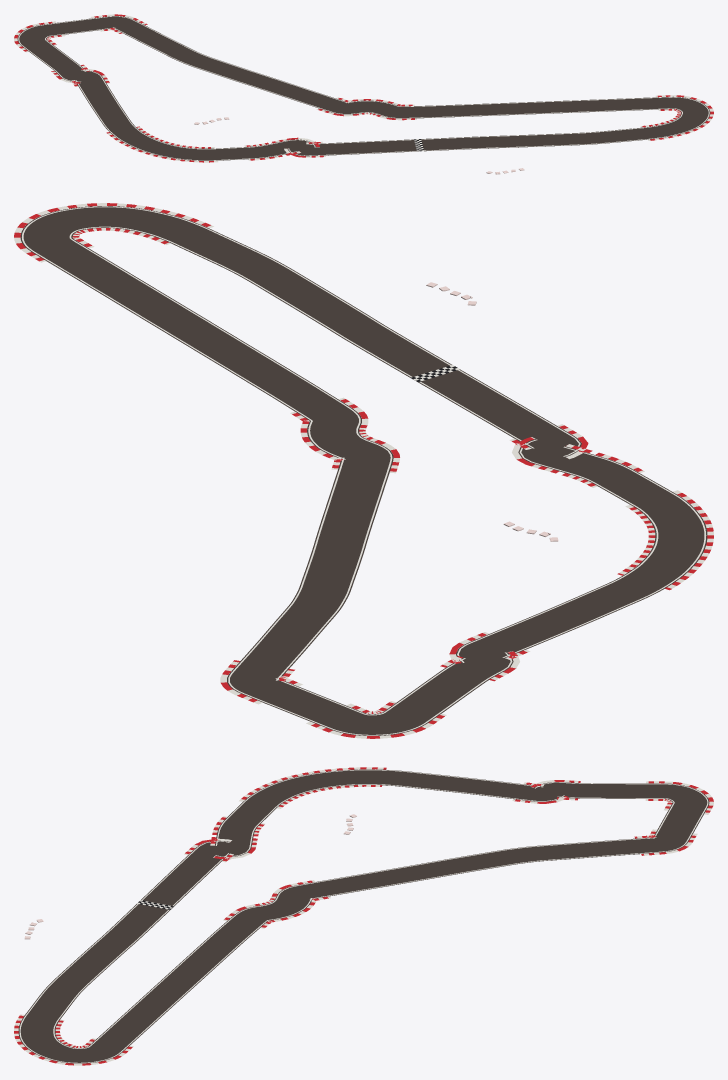
Rendered from scenery-compressed.glb.
3 renders of one model, top to bottom at view 1: azimuth 30°, elevation 25°; view 2: azimuth 150°, elevation 25°; view 3: azimuth 270°, elevation 25°, orthographic. The views are drawn at different scales.
Visible parts, largest first — view 1: refRoad, monzaLines, monzaKerbsWhite, monzaKerbsRed; view 2: refRoad, monzaLines, monzaKerbsWhite, monzaKerbsRed; view 3: refRoad, monzaLines, monzaKerbsRed, monzaKerbsWhite.
Boxes of the visible parts, x1,y1,x2,y2 form: refRoad: (17, 16, 710, 160); monzaLines: (18, 16, 709, 160); monzaKerbsWhite: (14, 14, 713, 162); monzaKerbsRed: (14, 14, 713, 162); refRoad: (20, 206, 707, 735); monzaLines: (22, 206, 706, 735); monzaKerbsWhite: (14, 203, 713, 738); monzaKerbsRed: (14, 203, 713, 738); refRoad: (18, 769, 709, 1063); monzaLines: (19, 769, 708, 1063); monzaKerbsRed: (14, 767, 713, 1065); monzaKerbsWhite: (14, 767, 713, 1065).
Size of the model in its own units: 138 by 0.158 by 137.
5 materials, 1 textured.
